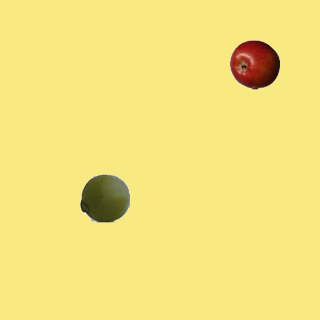Apple Braeburn: (229, 39, 279, 89)
Grape White 4: (79, 172, 129, 222)
